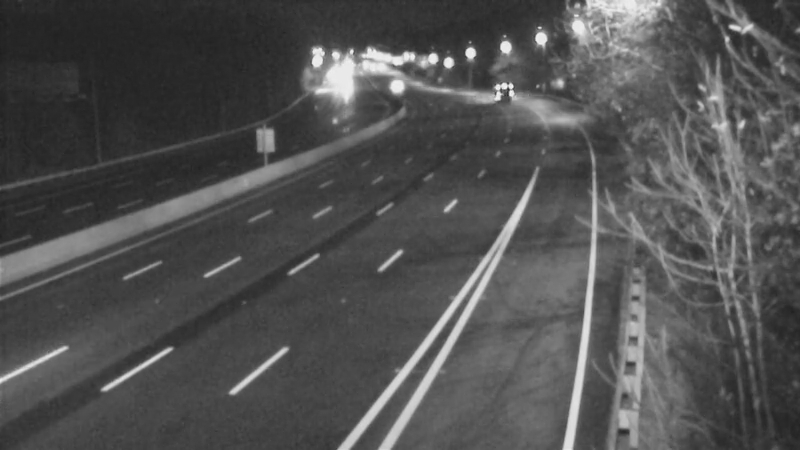vehicle: (369, 59, 419, 109), (467, 64, 517, 114)
